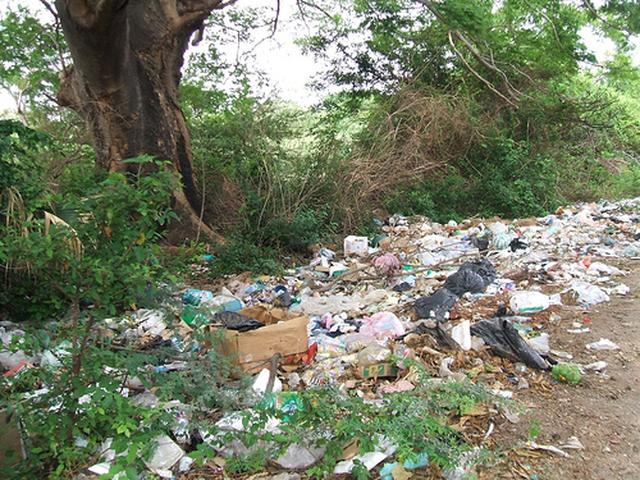garbage: (295, 268, 514, 371), (394, 227, 610, 289)
